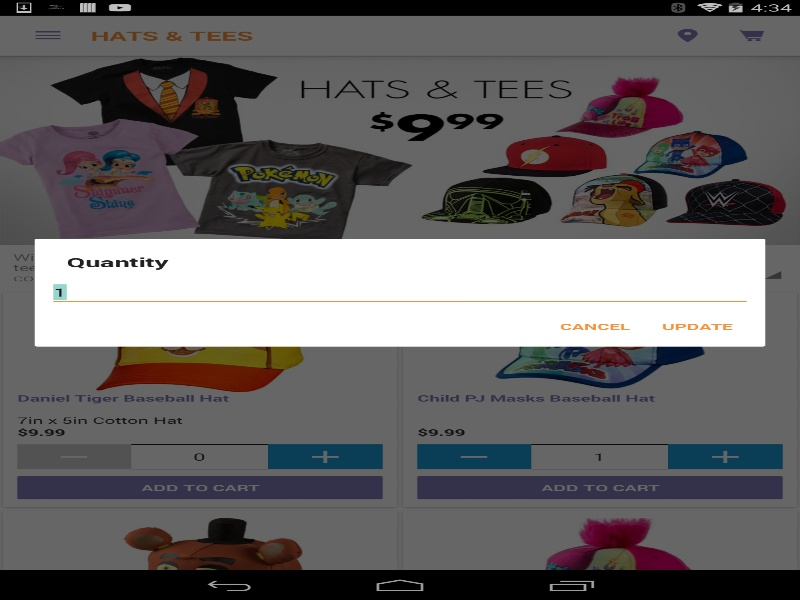Input: (48, 278, 752, 306)
